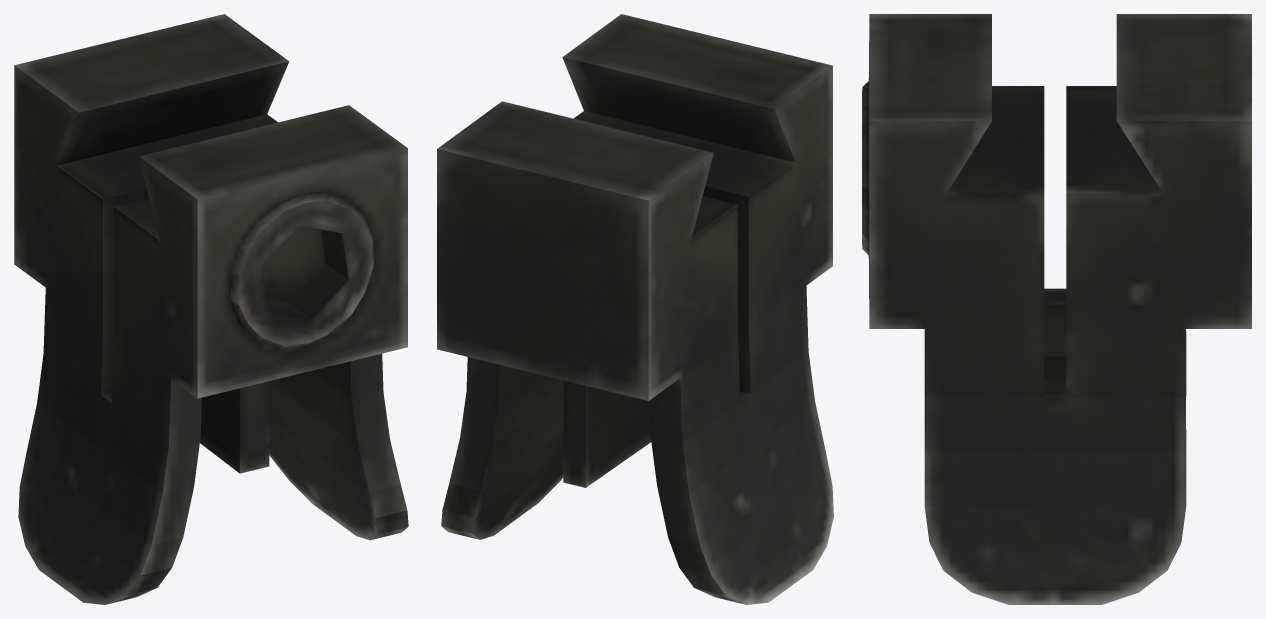
3 renders of one model, left to right at view 1: azimuth 30°, elevation 25°; view 2: azimuth 150°, elevation 25°; view 3: azimuth 270°, elevation 25°, orthographic. The views are drawn at different scales.
Parts seen in each view (by area): view 1: TW_5addba3e5acfc4001669f0ab_PZ_Import; view 2: TW_5addba3e5acfc4001669f0ab_PZ_Import; view 3: TW_5addba3e5acfc4001669f0ab_PZ_Import.
Part boxes in pixels (box(x1,y1,x2,y2)): TW_5addba3e5acfc4001669f0ab_PZ_Import: box(14, 14, 408, 604); TW_5addba3e5acfc4001669f0ab_PZ_Import: box(437, 14, 833, 604); TW_5addba3e5acfc4001669f0ab_PZ_Import: box(862, 14, 1251, 604).
Size of the model in its own units: 0.00961 by 0.0102 by 0.0133.
Materials: 1 (1 with a texture image).
